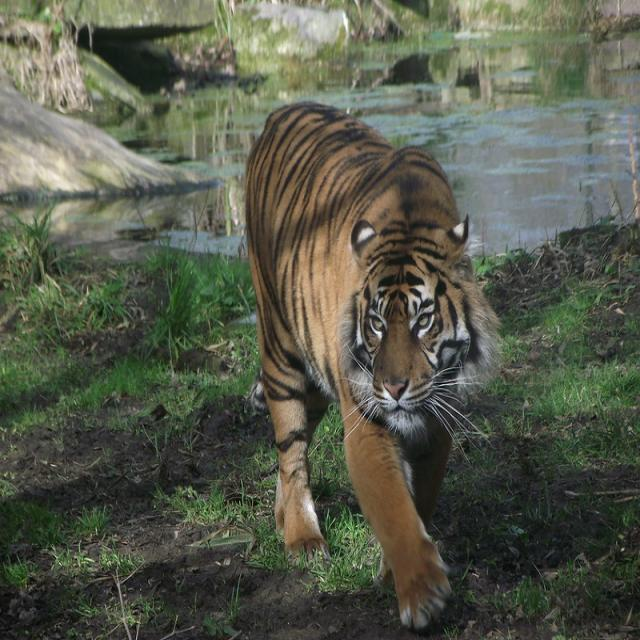Tiger: (238, 98, 502, 632)
